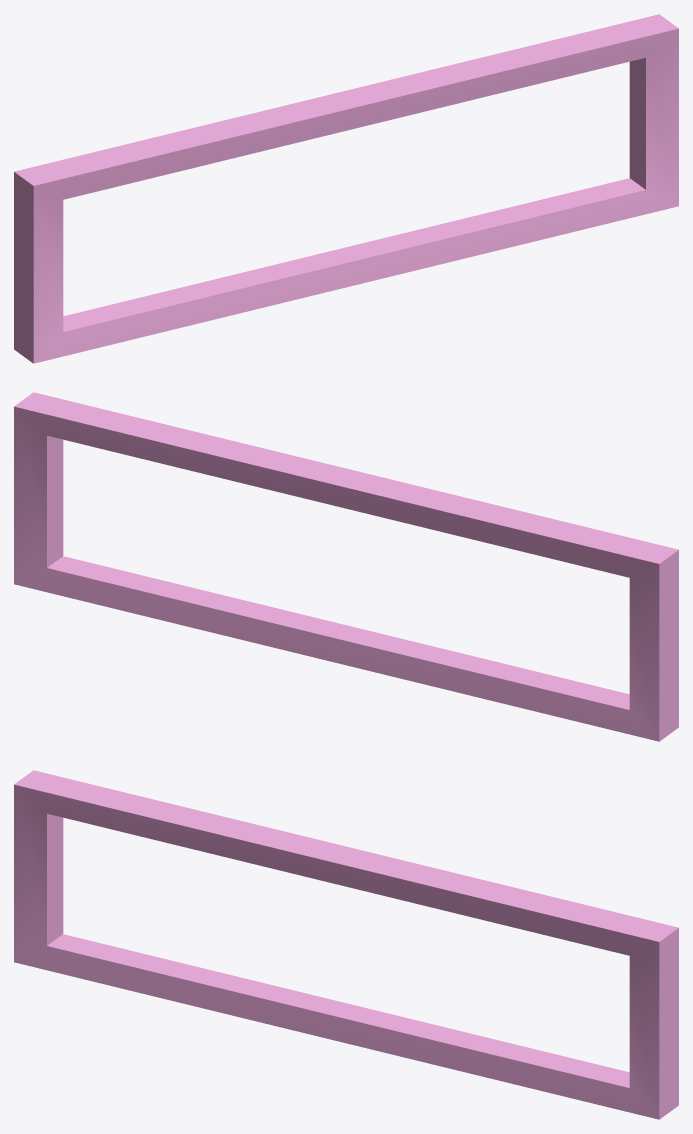
Rendered from BlocoDeFora.fbx.
3 renders of one model, top to bottom at view 1: azimuth 30°, elevation 25°; view 2: azimuth 150°, elevation 25°; view 3: azimuth 330°, elevation 25°, orthographic.
Parts seen in each view (by area): view 1: pCube22; view 2: pCube22; view 3: pCube22.
Boxes of the visible parts, x1,y1,x2,y2 form: pCube22: (14,14,678,363); pCube22: (14,392,678,741); pCube22: (14,770,678,1119).
Size of the model in its own units: 475 by 125 by 25.
